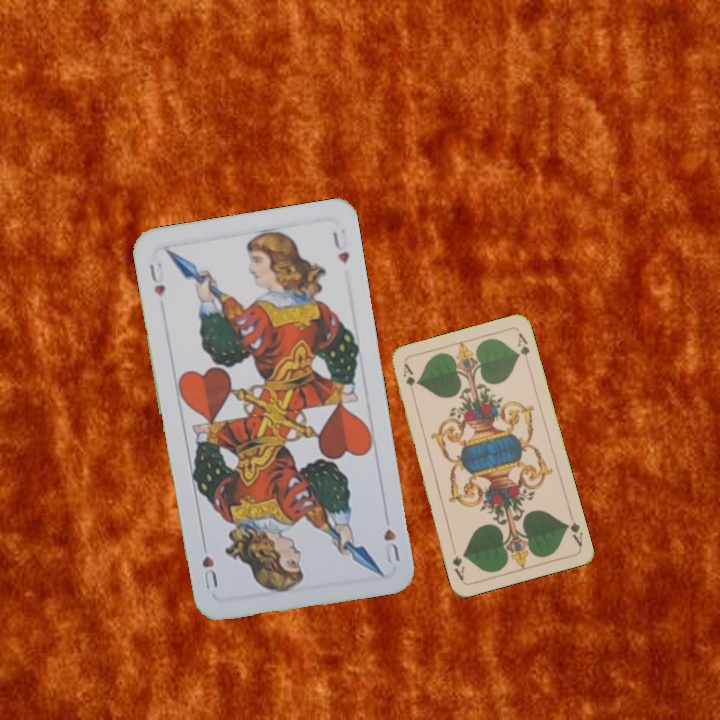GA: (561, 509, 585, 549), (399, 360, 418, 400)
HU: (145, 258, 168, 300), (379, 524, 402, 566)
